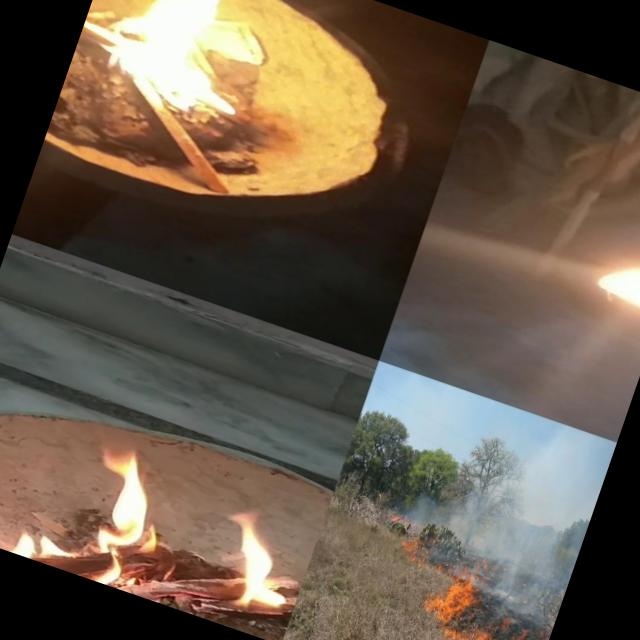fire: (87, 0, 308, 150), (198, 481, 327, 632), (70, 434, 196, 580), (568, 208, 640, 359), (0, 504, 71, 568), (420, 560, 482, 630), (469, 614, 550, 640), (397, 528, 438, 570), (440, 617, 488, 640), (387, 512, 402, 532)
smoke: (510, 420, 616, 570), (402, 460, 528, 549), (474, 545, 572, 633), (494, 410, 554, 498), (431, 527, 494, 576)
